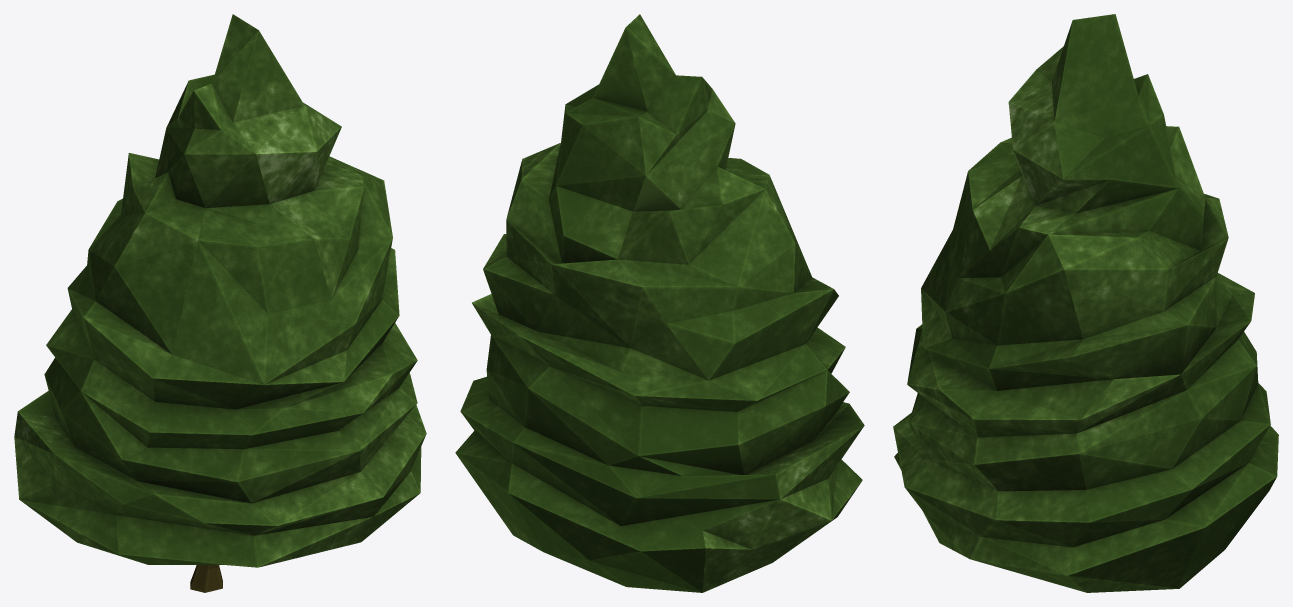
3 views of the same model, side by side, from view 1: azimuth 30°, elevation 25°; view 2: azimuth 150°, elevation 25°; view 3: azimuth 270°, elevation 25° (orthographic). The views are drawn at different scales.
Visible parts, largest first — view 1: PineTree_mesh; view 2: PineTree_mesh; view 3: PineTree_mesh.
Part boxes in pixels (<box>): PineTree_mesh: <box>14,14,426,592</box>; PineTree_mesh: <box>455,14,864,592</box>; PineTree_mesh: <box>893,14,1278,592</box>.
Size of the model in its own units: 10.27 by 14.41 by 8.64.
1 material, 1 textured.
